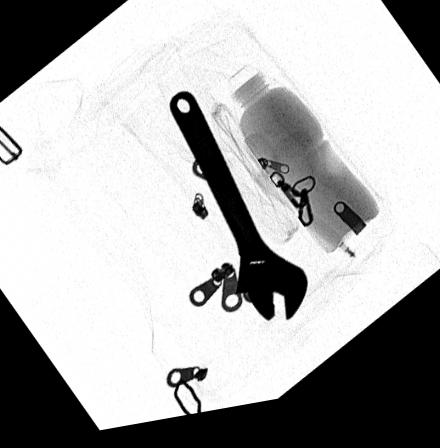Wrench: (168, 96, 308, 332)
